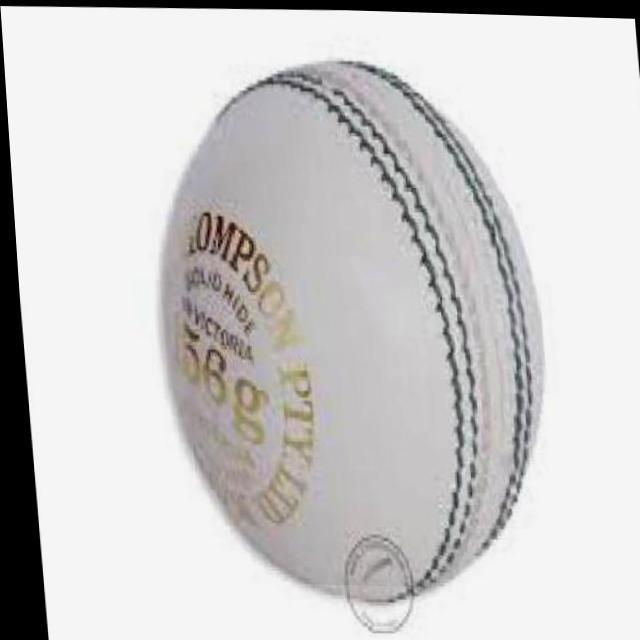-: (128, 58, 591, 589)
